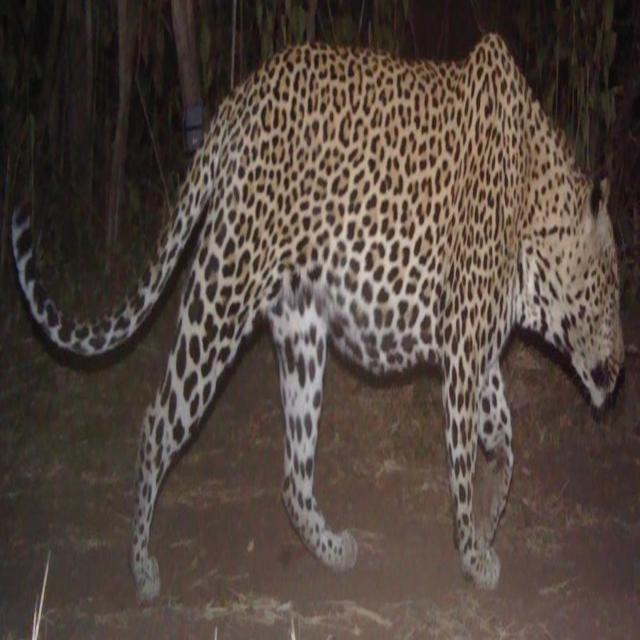Leopard: (2, 30, 623, 610)
